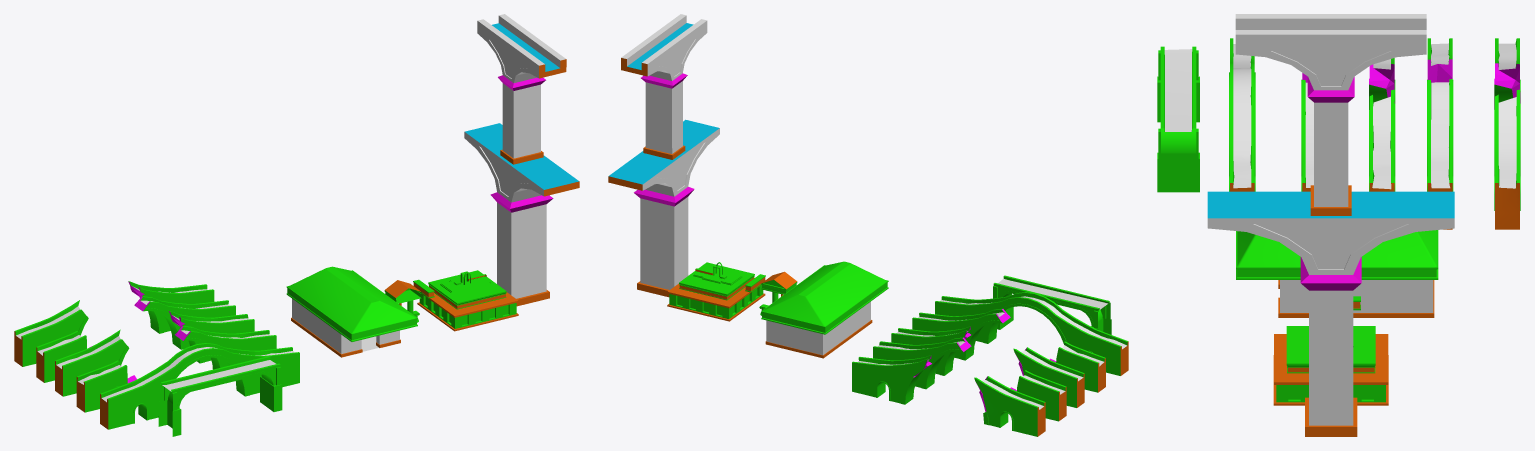
File: levelAssets.fbx
3 views of the same model, side by side, from view 1: azimuth 30°, elevation 25°; view 2: azimuth 150°, elevation 25°; view 3: azimuth 270°, elevation 25° (orthographic). The views are drawn at different scales.
Parts seen in each view (by area): view 1: Aquaduct - Support, Aquaduct - Main, Bridge - Curvev2, Building 1 - Entablature Roof, Bridge - Flat, Bridge - Curvev2.002, Bridge - Curvev2.001, Bridge - Curvev2.006, Groundwork, Building.001, Bridge - Curvev2.005, Bridge - Curvev2.004 (+4 smaller); view 2: Aquaduct - Support, Aquaduct - Main, Bridge - Curvev2, Building 1 - Entablature Roof, Bridge - Curvev2.001, Bridge - Curvev2.002, Bridge - Curvev2.004, Bridge - Curvev2.006, Building.001, Bridge - Flat, Groundwork, Bridge - Curvev2.005 (+4 smaller); view 3: Aquaduct - Support, Aquaduct - Main, Bridge - Flat, Building.001, Building 1 - Entablature Roof, Bridge - Curvev2, Bridge - Curvev2.004, Bridge - Curvev2.002, Groundwork, Bridge - Curvev2.005, Roofing, Building 1 - Entablature Suppot (+3 smaller).
Part boxes in pixels (<box>): Aquaduct - Support: <box>464,123,579,306</box>; Aquaduct - Main: <box>477,14,566,164</box>; Bridge - Curvev2: <box>100,343,299,429</box>; Building 1 - Entablature Roof: <box>288,266,416,333</box>; Bridge - Flat: <box>158,356,282,436</box>; Bridge - Curvev2.002: <box>55,311,254,396</box>; Bridge - Curvev2.001: <box>76,326,276,412</box>; Bridge - Curvev2.006: <box>14,300,88,366</box>; Groundwork: <box>417,292,518,331</box>; Building.001: <box>291,299,400,357</box>; Bridge - Curvev2.005: <box>134,296,235,349</box>; Bridge - Curvev2.004: <box>128,281,214,333</box>; Aquaduct - Support: <box>608,119,719,297</box>; Aquaduct - Main: <box>621,14,707,159</box>; Bridge - Curvev2: <box>935,292,1128,375</box>; Building 1 - Entablature Roof: <box>763,261,886,326</box>; Bridge - Curvev2.001: <box>912,308,1105,392</box>; Bridge - Curvev2.002: <box>891,326,1084,407</box>; Bridge - Curvev2.004: <box>852,355,931,404</box>; Bridge - Curvev2.006: <box>974,376,1045,436</box>; Building.001: <box>765,301,872,358</box>; Bridge - Flat: <box>993,275,1111,334</box>; Groundwork: <box>667,283,765,321</box>; Bridge - Curvev2.005: <box>873,337,971,389</box>; Aquaduct - Support: <box>1207,191,1454,436</box>; Aquaduct - Main: <box>1235,14,1426,215</box>; Bridge - Flat: <box>1157,46,1199,192</box>; Building.001: <box>1278,280,1434,317</box>; Building 1 - Entablature Roof: <box>1237,230,1436,267</box>; Bridge - Curvev2: <box>1229,38,1255,191</box>; Bridge - Curvev2.004: <box>1494,89,1520,229</box>; Bridge - Curvev2.002: <box>1369,58,1395,191</box>; Groundwork: <box>1273,334,1388,405</box>; Bridge - Curvev2.005: <box>1427,79,1453,229</box>; Roofing: <box>1286,326,1375,373</box>; Building 1 - Entablature Suppot: <box>1236,230,1438,279</box>.
Bounding box in the file's own units: 12250 × 6423 × 5320.
